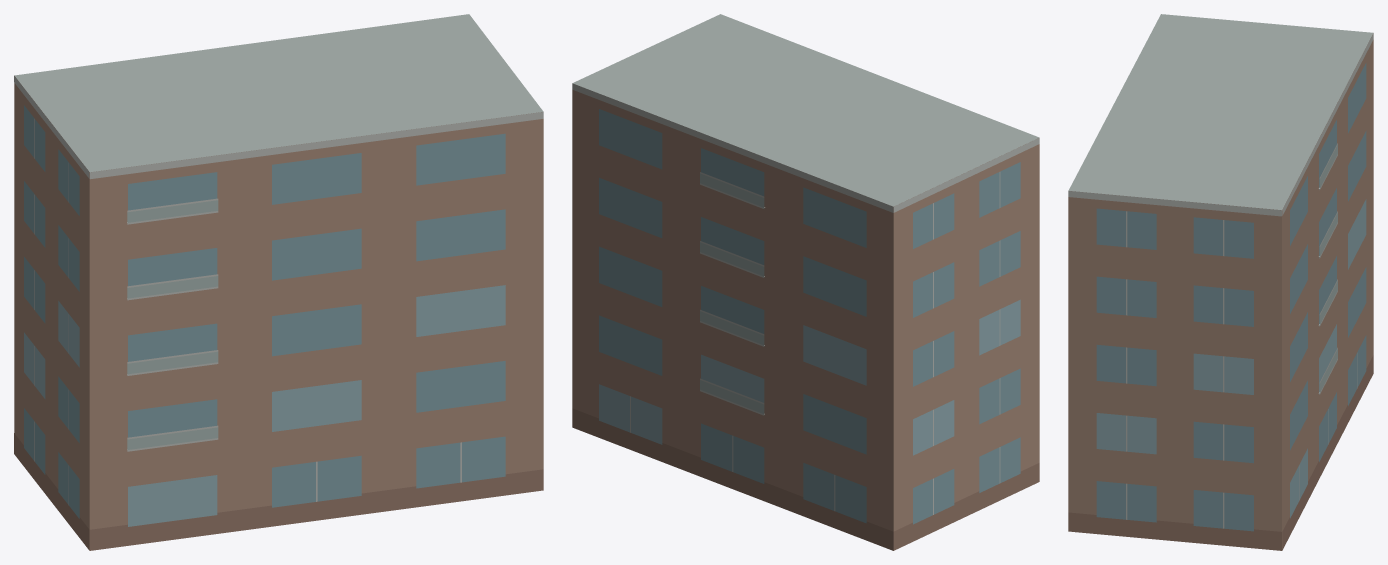
The model's file is survey-upis-33030644.glb.
3 renders of one model, left to right at view 1: azimuth 30°, elevation 25°; view 2: azimuth 150°, elevation 25°; view 3: azimuth 270°, elevation 25°, orthographic. The views are drawn at different scales.
Visible parts, largest first — view 1: survey-upis-33030644.tmp; view 2: survey-upis-33030644.tmp; view 3: survey-upis-33030644.tmp.
Part boxes in pixels (x1=…): survey-upis-33030644.tmp: x1=14, y1=14, x2=543, y2=550; survey-upis-33030644.tmp: x1=572, y1=14, x2=1039, y2=550; survey-upis-33030644.tmp: x1=1068, y1=14, x2=1373, y2=550.
Size of the model in its own units: 16.31 by 13.2 by 10.73.
